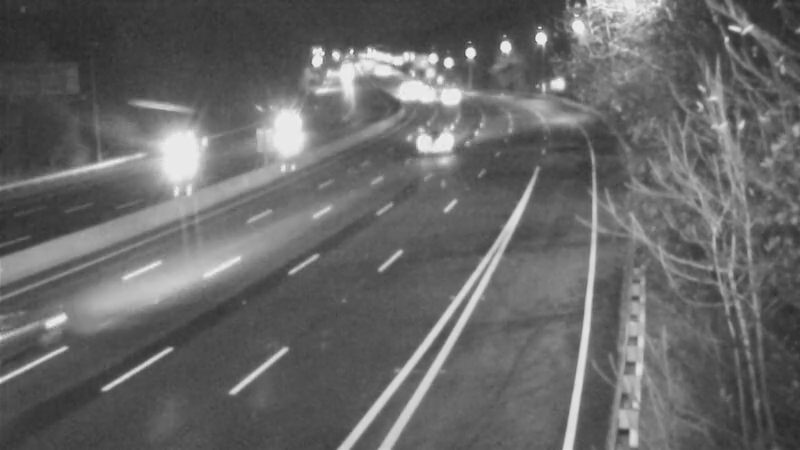vehicle: (138, 115, 218, 195), (385, 69, 435, 119), (423, 71, 473, 121), (413, 118, 463, 168), (263, 101, 313, 151)
